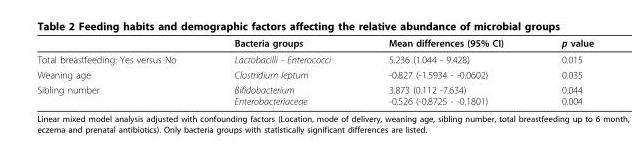table: (36, 36, 593, 106)
table column: (358, 36, 531, 106), (36, 36, 204, 106), (204, 36, 358, 106), (531, 36, 593, 106)
table column header: (36, 36, 593, 50)
table row: (36, 81, 593, 106), (36, 50, 593, 66), (36, 66, 593, 81), (36, 36, 593, 50)
